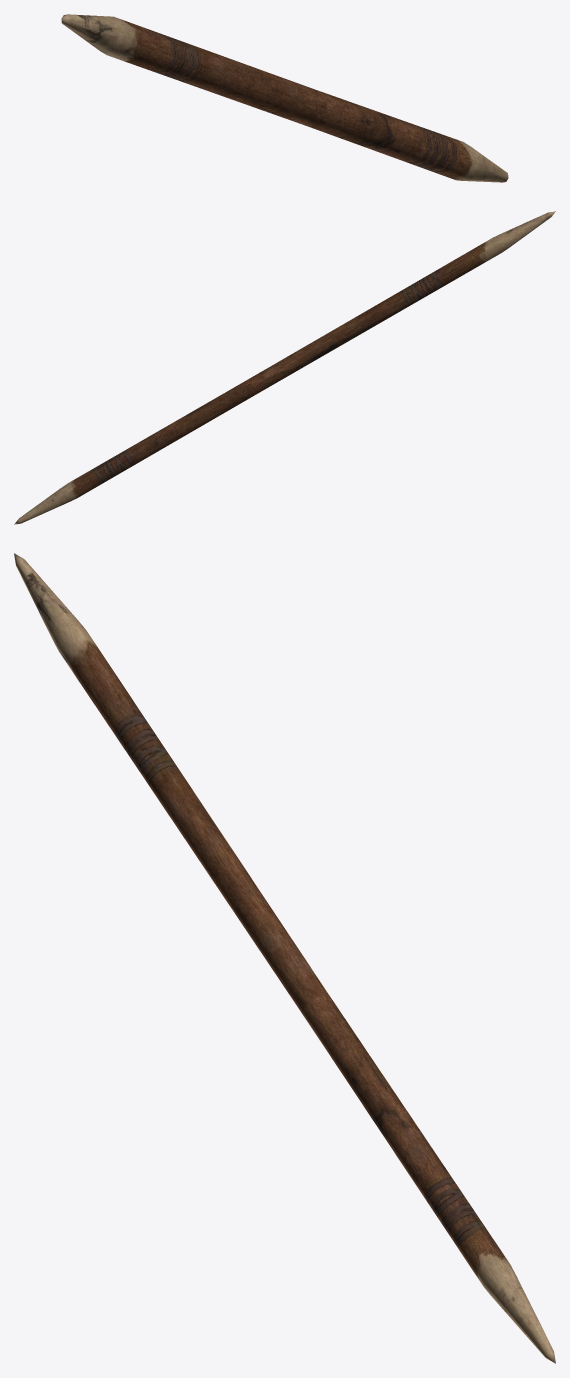
Rendered from weapon-base.glb.
3 renders of one model, top to bottom at view 1: azimuth 30°, elevation 25°; view 2: azimuth 150°, elevation 25°; view 3: azimuth 270°, elevation 25°, orthographic. The views are drawn at different scales.
Bounding box in the file's own units: 2.03 × 1.47 × 1.47.
1 material, 1 textured.
